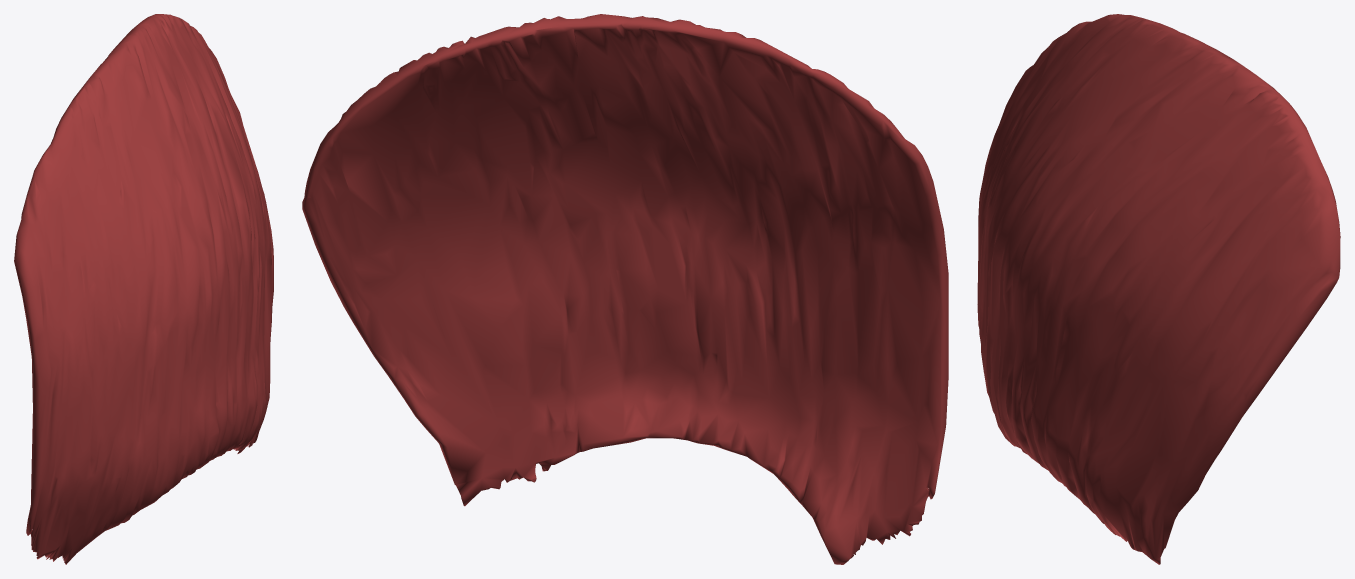
File: frontalis-muscle-l.glb
3 views of the same model, side by side, from view 1: azimuth 30°, elevation 25°; view 2: azimuth 150°, elevation 25°; view 3: azimuth 270°, elevation 25° (orthographic). The views are drawn at different scales.
Parts seen in each view (by area): view 1: Frontalis muscle.l; view 2: Frontalis muscle.l; view 3: Frontalis muscle.l.
Part boxes in pixels (<box>): Frontalis muscle.l: <box>14,14,273,564</box>; Frontalis muscle.l: <box>302,14,948,564</box>; Frontalis muscle.l: <box>977,14,1340,564</box>.
Bounding box in the file's own units: 0.0584 × 0.0701 × 0.0469.
